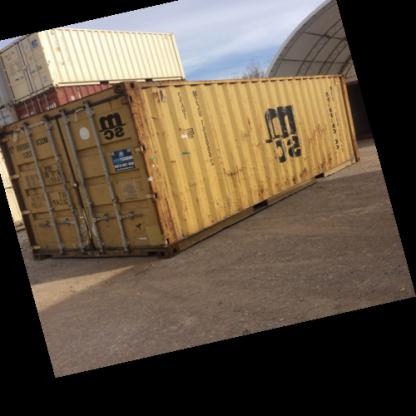Damage: (122, 90, 170, 170), (252, 162, 314, 195), (148, 192, 182, 241), (76, 198, 102, 257), (301, 119, 337, 143), (222, 150, 246, 186), (45, 163, 66, 188), (316, 152, 337, 172), (126, 218, 146, 236), (187, 178, 200, 204), (325, 82, 339, 100)
